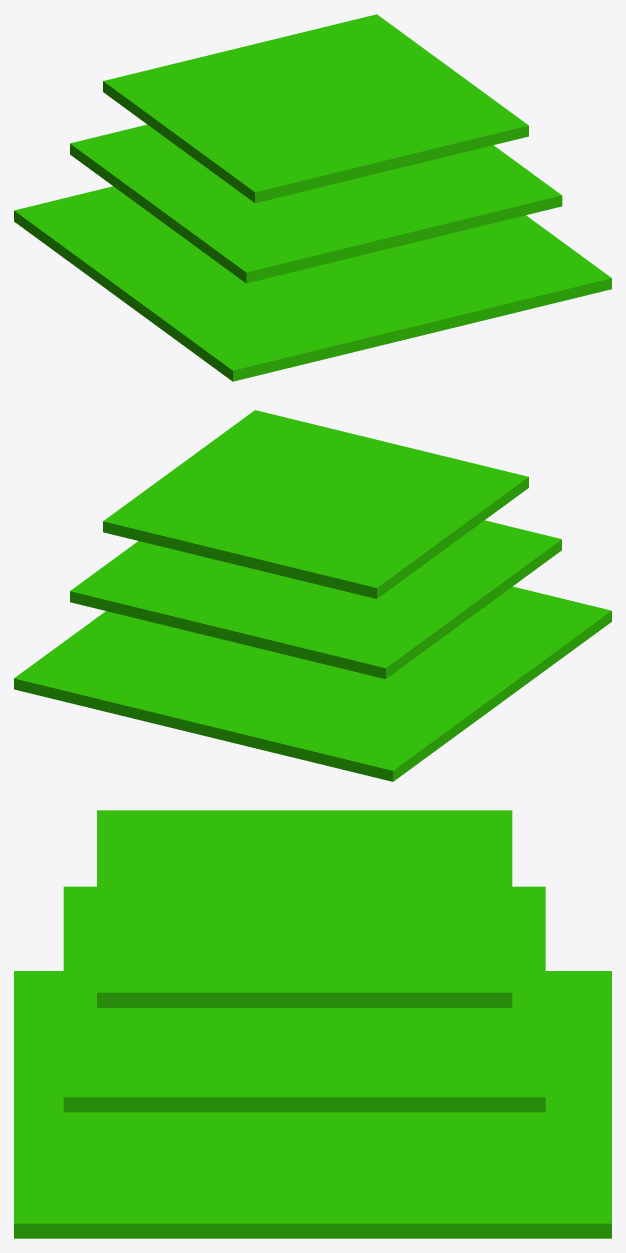
The model's file is Anubis_25-1.obj.
3 views of the same model, one above another, from view 1: azimuth 30°, elevation 25°; view 2: azimuth 150°, elevation 25°; view 3: azimuth 270°, elevation 25° (orthographic). The views are drawn at different scales.
Size of the model in its own units: 3.6 by 1.4 by 3.6.
Materials: 1 (1 with a texture image).
